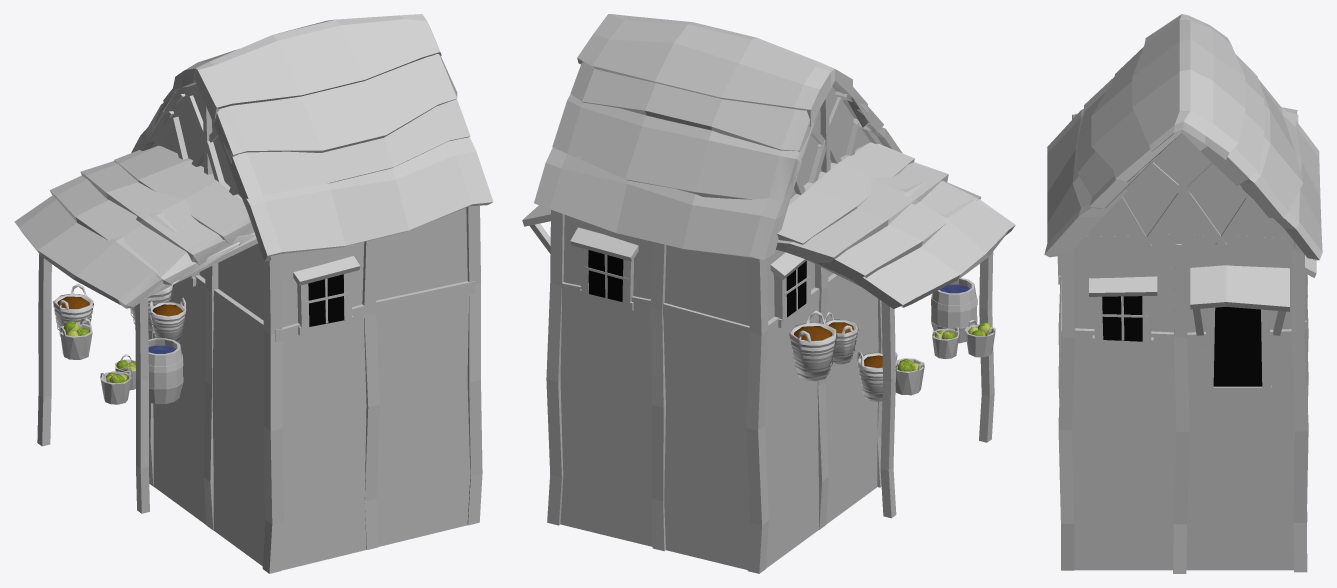
Rendered from VegetableFarm2.fbx.
3 views of the same model, side by side, from view 1: azimuth 30°, elevation 25°; view 2: azimuth 150°, elevation 25°; view 3: azimuth 270°, elevation 25° (orthographic). The views are drawn at different scales.
Visible parts, largest first — view 1: Foundation.001, Roof.002, Roof.004, Roof.006, Base.001, Roof.007, Post.025, Roof.010, Roof.008, Roof.009, Post.029, Post.030 (+14 smaller); view 2: Foundation.001, Roof.004, Roof.003, Roof.001, Roof.005, Base.001, Roof.007, Post.022, Roof.010, Roof.009, Roof.008, Post.031 (+19 smaller); view 3: Foundation.001, Roof.004, Door.001, Base.001, Gable.001, Roof.002, Roof.006, Post.028, Post.031, Post.029, Roof.003, Roof.001 (+11 smaller).
Boxes of the visible parts, x1=… form: Foundation.001: x1=152, y1=280, x2=470, y2=570; Roof.002: x1=214, y1=99, x2=493, y2=261; Roof.004: x1=172, y1=14, x2=441, y2=123; Roof.006: x1=197, y1=54, x2=457, y2=163; Base.001: x1=199, y1=208, x2=467, y2=327; Roof.007: x1=14, y1=195, x2=199, y2=308; Post.025: x1=262, y1=254, x2=283, y2=573; Roof.010: x1=114, y1=145, x2=254, y2=245; Roof.008: x1=49, y1=175, x2=240, y2=285; Roof.009: x1=80, y1=161, x2=255, y2=264; Post.029: x1=466, y1=205, x2=482, y2=525; Post.030: x1=362, y1=238, x2=379, y2=549; Foundation.001: x1=560, y1=280, x2=881, y2=569; Roof.004: x1=577, y1=14, x2=852, y2=126; Roof.003: x1=552, y1=94, x2=813, y2=201; Roof.001: x1=534, y1=147, x2=801, y2=260; Roof.005: x1=570, y1=62, x2=819, y2=159; Base.001: x1=563, y1=215, x2=833, y2=325; Roof.007: x1=847, y1=199, x2=1015, y2=308; Post.022: x1=746, y1=257, x2=768, y2=573; Roof.010: x1=777, y1=142, x2=914, y2=244; Roof.009: x1=776, y1=162, x2=948, y2=263; Roof.008: x1=815, y1=180, x2=981, y2=281; Post.031: x1=546, y1=210, x2=564, y2=525; Foundation.001: x1=1072, y1=342, x2=1294, y2=570; Roof.004: x1=1132, y1=14, x2=1245, y2=159; Door.001: x1=1190, y1=265, x2=1289, y2=394; Base.001: x1=1074, y1=246, x2=1291, y2=332; Gable.001: x1=1085, y1=136, x2=1283, y2=238; Roof.002: x1=1044, y1=77, x2=1158, y2=257; Roof.006: x1=1091, y1=47, x2=1181, y2=181; Post.028: x1=1173, y1=244, x2=1189, y2=573; Post.031: x1=1291, y1=250, x2=1308, y2=572; Post.029: x1=1058, y1=249, x2=1074, y2=570; Roof.003: x1=1240, y1=79, x2=1303, y2=218; Roof.001: x1=1239, y1=108, x2=1322, y2=260.
Size of what is drawn, in the model's own units: 559 by 1029 by 909.
